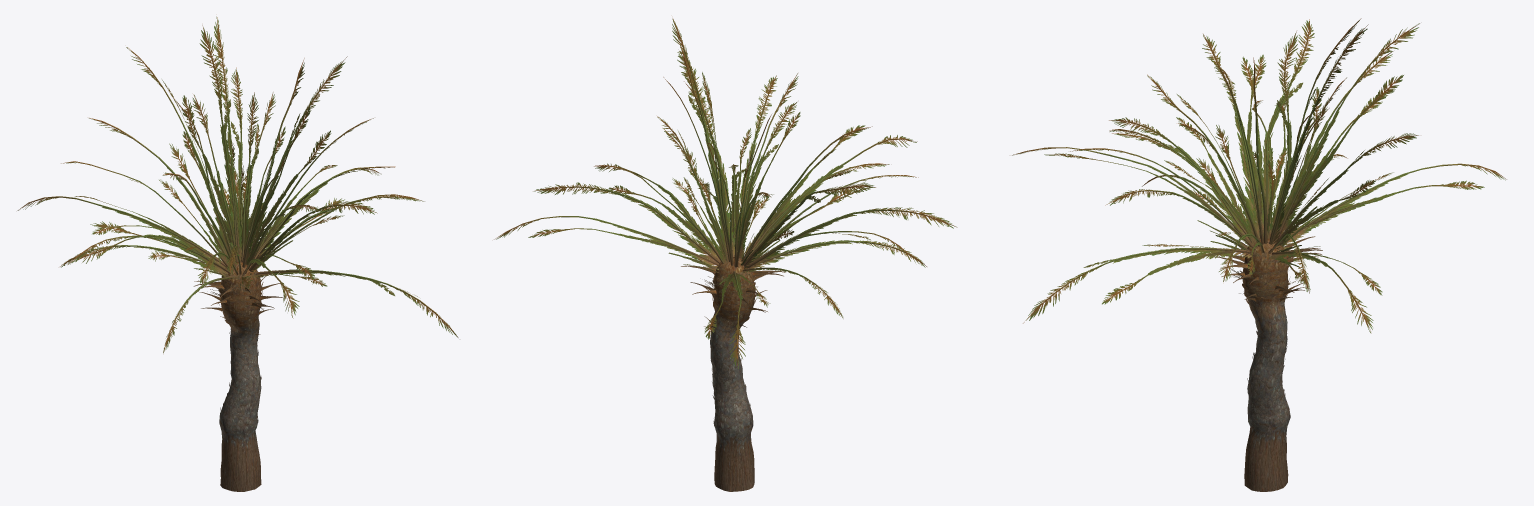
File: Plant - Alien Plant 03 1-82NISwj4.glb
The picture shows the model from 3 angles, left to right: view 1: azimuth 30°, elevation 25°; view 2: azimuth 150°, elevation 25°; view 3: azimuth 270°, elevation 25°; orthographic projection. The views are drawn at different scales.
Visible parts, largest first — view 1: Plant3_1_L0(Clone); view 2: Plant3_1_L0(Clone); view 3: Plant3_1_L0(Clone).
Part boxes in pixels (x1,y1,x2,y2): Plant3_1_L0(Clone): (17,16,458,491); Plant3_1_L0(Clone): (494,18,957,491); Plant3_1_L0(Clone): (1012,18,1506,491).
Size of the model in its own units: 6.62 by 7.02 by 7.09.
Materials: 3 (3 with a texture image).
